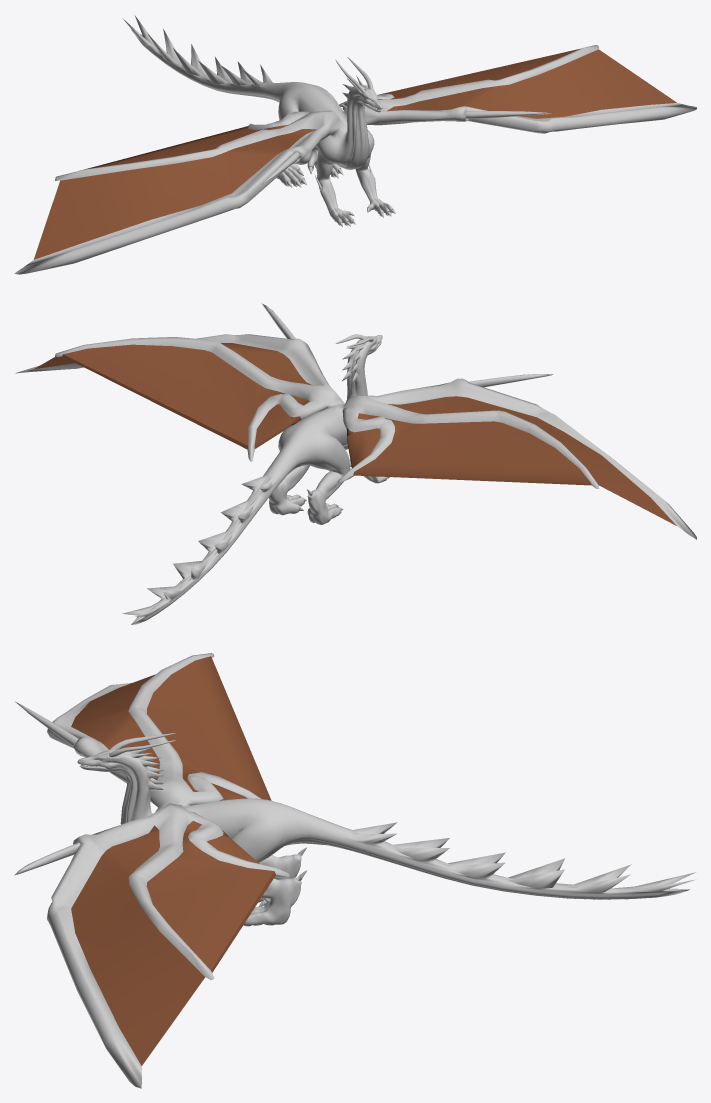
File: Dragon_2.5_For_Animations.glb
3 views of the same model, one above another, from view 1: azimuth 30°, elevation 25°; view 2: azimuth 150°, elevation 25°; view 3: azimuth 270°, elevation 25° (orthographic). The views are drawn at different scales.
Visible parts, largest first — view 1: Cube; view 2: Cube; view 3: Cube.
Boxes of the visible parts, box(x1,y1,x2,y2) form: Cube: box(14, 15, 696, 274); Cube: box(15, 303, 696, 624); Cube: box(14, 653, 695, 1088).
Size of the model in its own units: 153 by 30.77 by 109.
